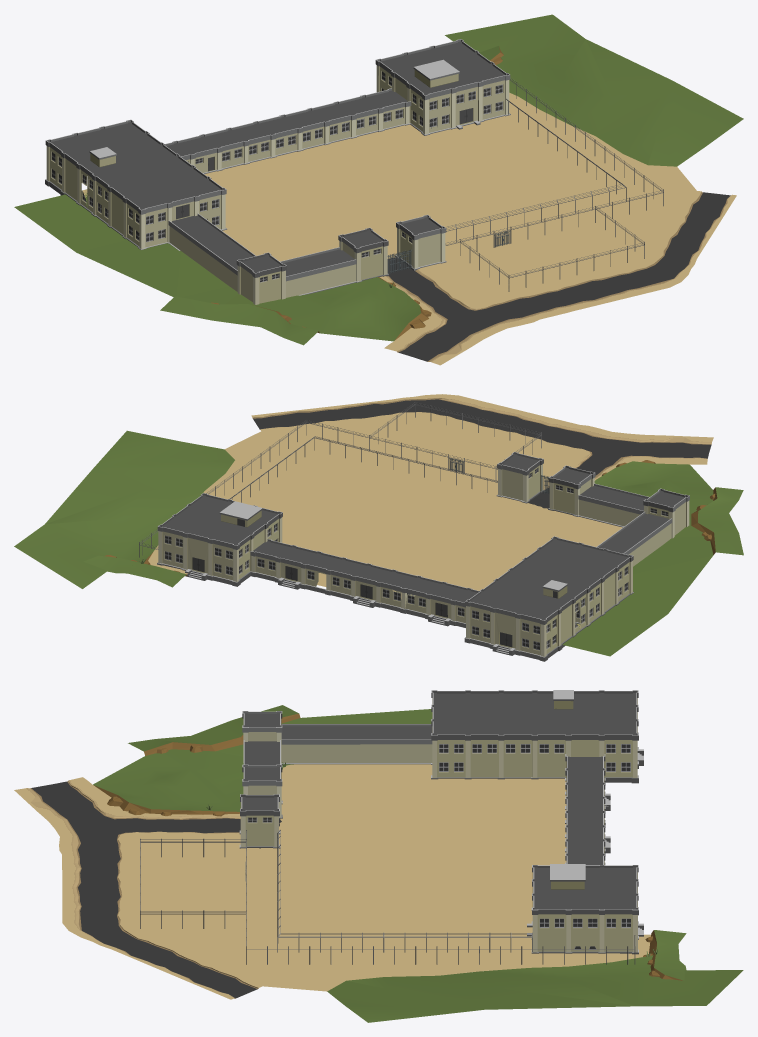
The model's file is Wall1.fbx.
3 views of the same model, one above another, from view 1: azimuth 30°, elevation 25°; view 2: azimuth 150°, elevation 25°; view 3: azimuth 270°, elevation 25° (orthographic). The views are drawn at different scales.
Visible parts, largest first — view 1: _sand, _Wall2, _grass2, _grass1, wall1, factory_tinyl_tan, _fence2, _fence, _fence3; view 2: _sand, _Wall2, _grass2, _grass1, wall1, factory_tinyl_tan, _fence2, _fence, _fence3; view 3: _sand, _Wall2, _grass2, _grass1, wall1, factory_tinyl_tan, _fence, _fence2, _fence3.
Boxes of the visible parts, x1,y1,x2,y2 form: _sand: [82, 91, 736, 365]; _Wall2: [45, 39, 510, 249]; _grass2: [445, 14, 743, 166]; _grass1: [14, 192, 431, 345]; wall1: [168, 213, 388, 304]; factory_tinyl_tan: [395, 214, 446, 270]; _fence2: [445, 78, 663, 255]; _fence: [445, 99, 626, 242]; _fence3: [460, 207, 644, 291]; _sand: [148, 394, 713, 628]; _Wall2: [157, 493, 633, 661]; _grass2: [14, 430, 234, 588]; _grass1: [562, 460, 743, 656]; wall1: [548, 465, 689, 566]; factory_tinyl_tan: [496, 452, 544, 503]; _fence2: [139, 420, 497, 557]; _fence: [229, 436, 497, 502]; _fence3: [370, 401, 541, 467]; _sand: [14, 764, 650, 999]; _Wall2: [431, 690, 643, 954]; _grass2: [327, 930, 743, 1022]; _grass1: [93, 705, 432, 816]; wall1: [242, 711, 432, 818]; factory_tinyl_tan: [239, 794, 280, 848]; _fence: [277, 830, 532, 952]; _fence2: [246, 829, 635, 964]; _fence3: [140, 838, 245, 928].
Size of the model in its own units: 174 by 13.62 by 163.
